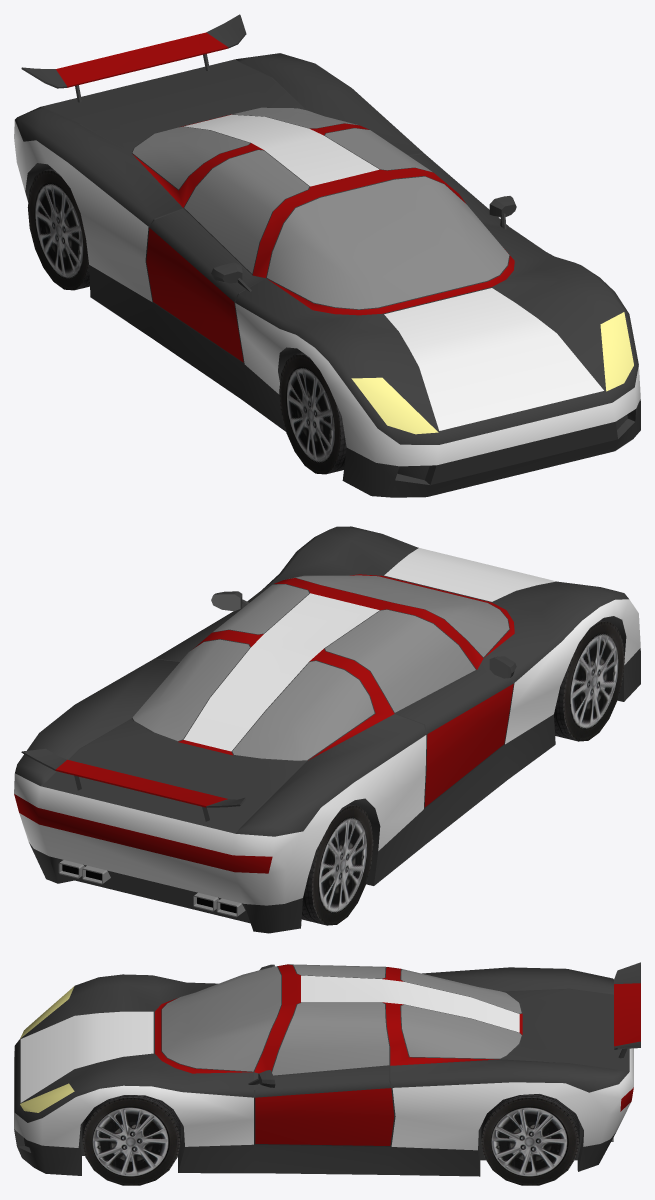
The model's file is car_1.FBX.
3 renders of one model, top to bottom at view 1: azimuth 30°, elevation 25°; view 2: azimuth 150°, elevation 25°; view 3: azimuth 270°, elevation 25°, orthographic. The views are drawn at different scales.
Parts seen in each view (by area): view 1: Object012, Cylinder058, Cylinder059; view 2: Object012, Cylinder059, Cylinder058; view 3: Object012, Cylinder060, Cylinder055.
Boxes of the visible parts, <box> form: Object012: <box>14,14,640,497</box>; Cylinder058: <box>279,352,346,474</box>; Cylinder059: <box>27,168,89,290</box>; Object012: <box>14,526,640,933</box>; Cylinder059: <box>301,803,373,925</box>; Cylinder058: <box>554,619,624,741</box>; Object012: <box>14,962,640,1176</box>; Cylinder060: <box>481,1094,579,1185</box>; Cylinder055: <box>82,1095,180,1185</box>.
Bounding box in the file's own units: 2.14 × 1.22 × 4.88.
